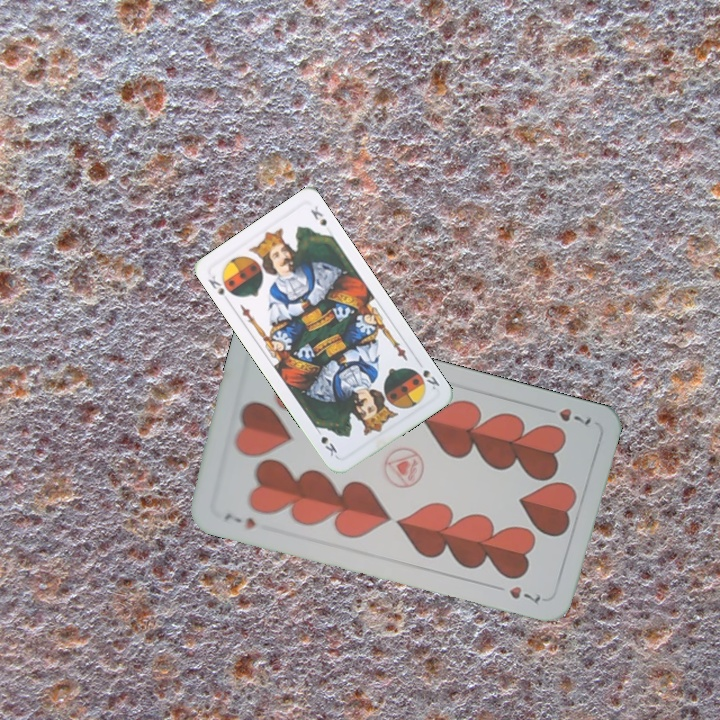H7: (538, 403, 594, 429), (220, 509, 258, 533)
SK: (204, 271, 233, 306), (419, 365, 442, 392)
